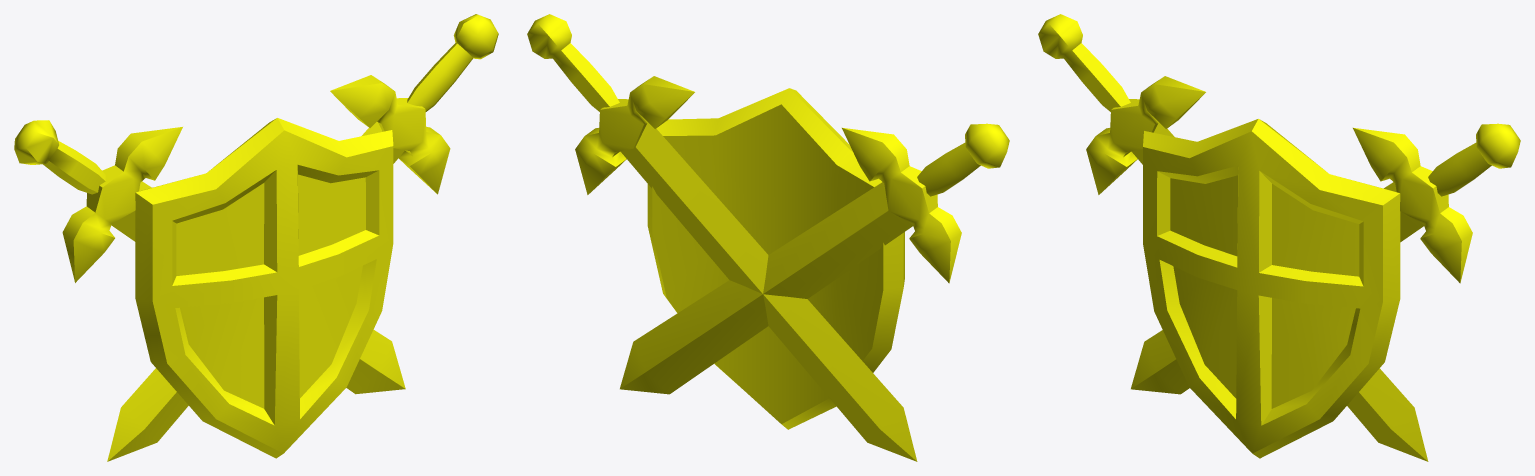
File: kaykit-sword-shield.glb
3 renders of one model, left to right at view 1: azimuth 30°, elevation 25°; view 2: azimuth 150°, elevation 25°; view 3: azimuth 330°, elevation 25°, orthographic.
Parts seen in each view (by area): view 1: sword_shield; view 2: sword_shield; view 3: sword_shield.
Boxes of the visible parts, <box> form: sword_shield: <box>14,14,498,461</box>; sword_shield: <box>527,14,1009,461</box>; sword_shield: <box>1038,14,1520,461</box>.
Size of the model in its own units: 2.23 by 1.67 by 0.3357.
